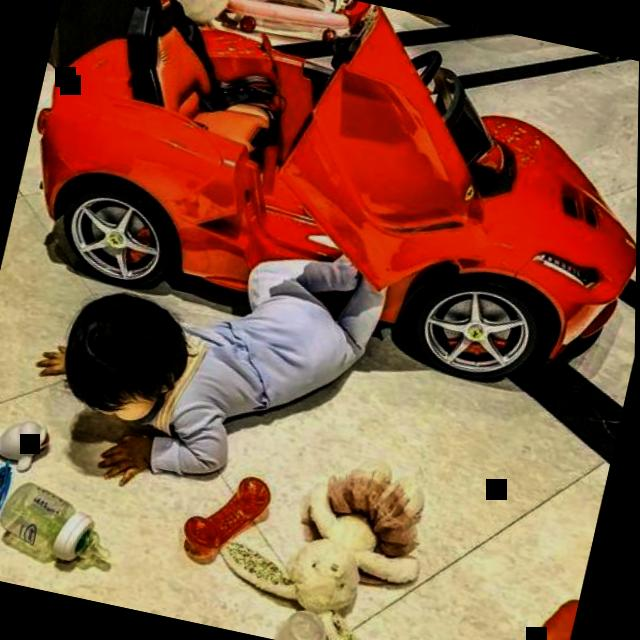Fall-Detected: (2, 163, 433, 538)
